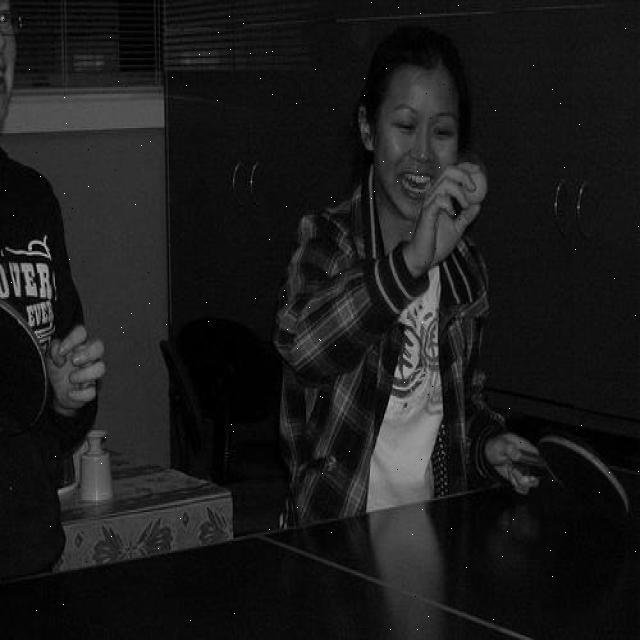ping-pong-ball: (461, 170, 488, 204)
